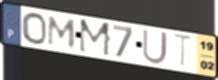7: (112, 23, 136, 60)
M: (78, 18, 113, 59), (46, 14, 78, 50)
O: (20, 12, 48, 46)
T: (172, 32, 195, 71)
U: (141, 28, 170, 66)
